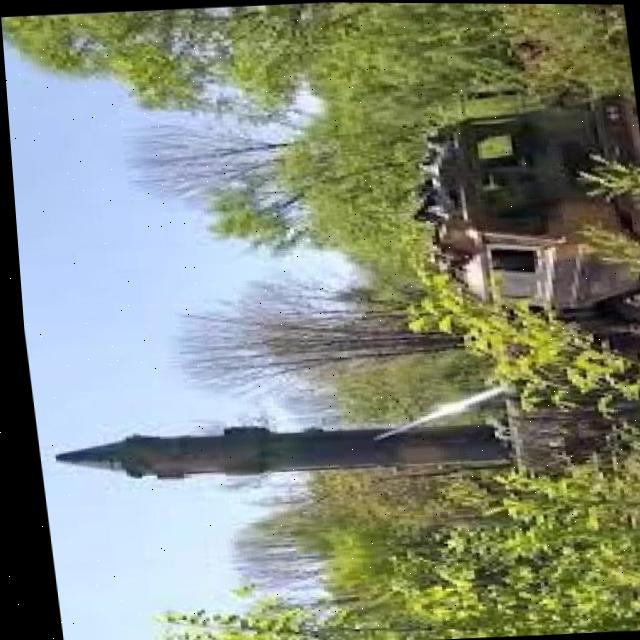missile: (41, 386, 499, 495)
